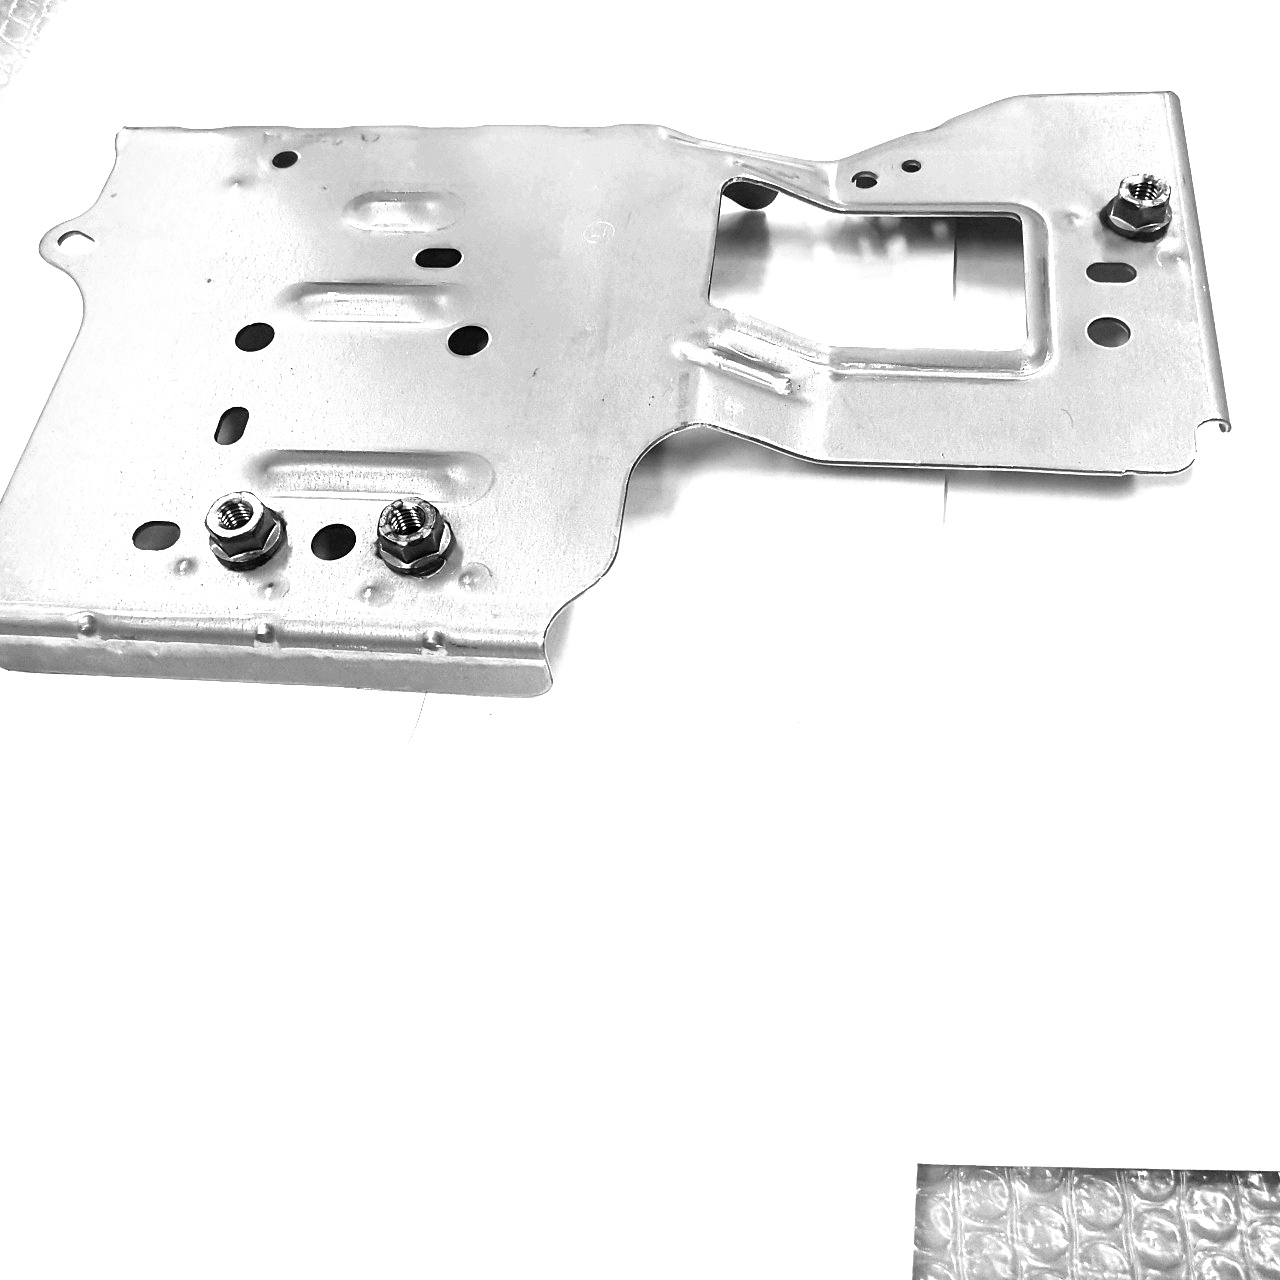dog: (370, 492, 459, 583), (202, 484, 290, 572), (1098, 170, 1178, 241)
